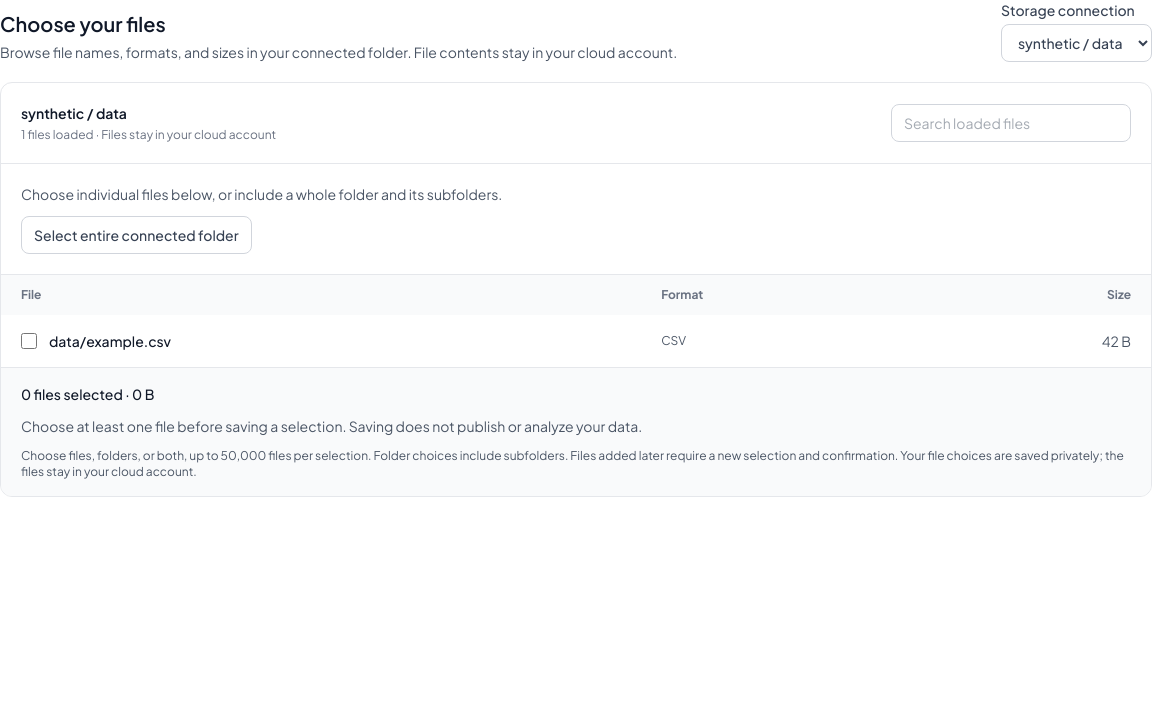
Test: does not write the draft after a source save when no persisted sample selection exists
Click the checkbox labelled "data/example.csv".
click(29, 341)  # box [21,333,37,349]
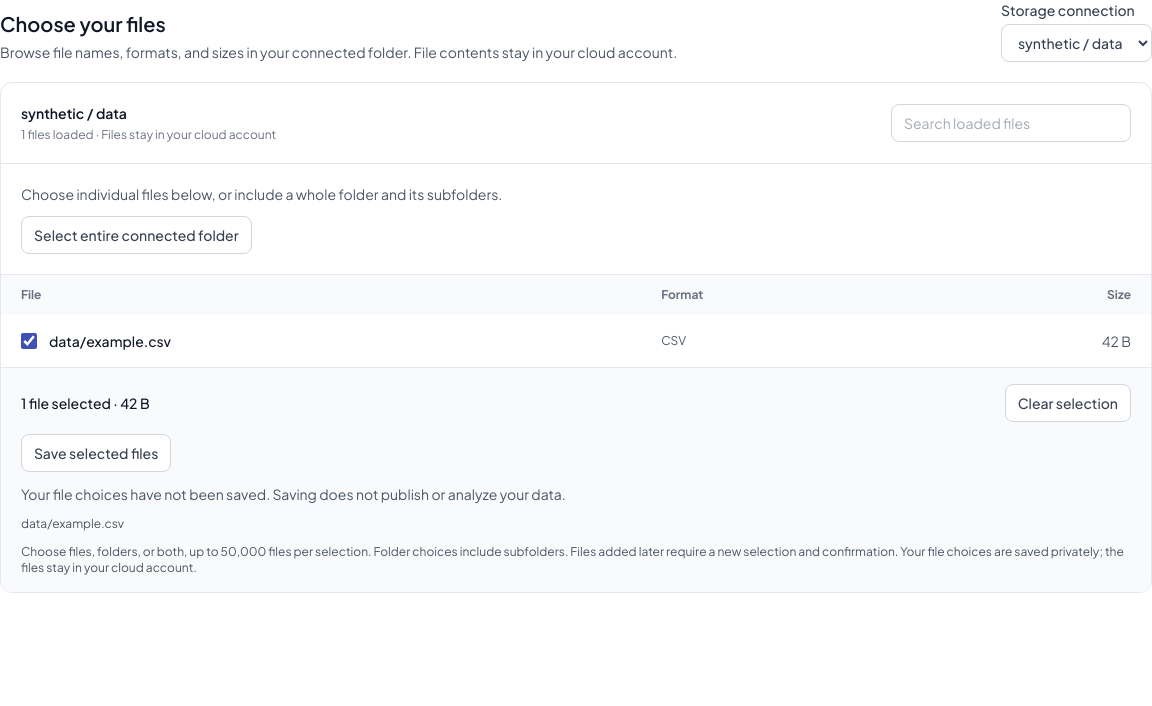
Click the button "Save selected files".
click(96, 453)  # box [21,434,171,472]
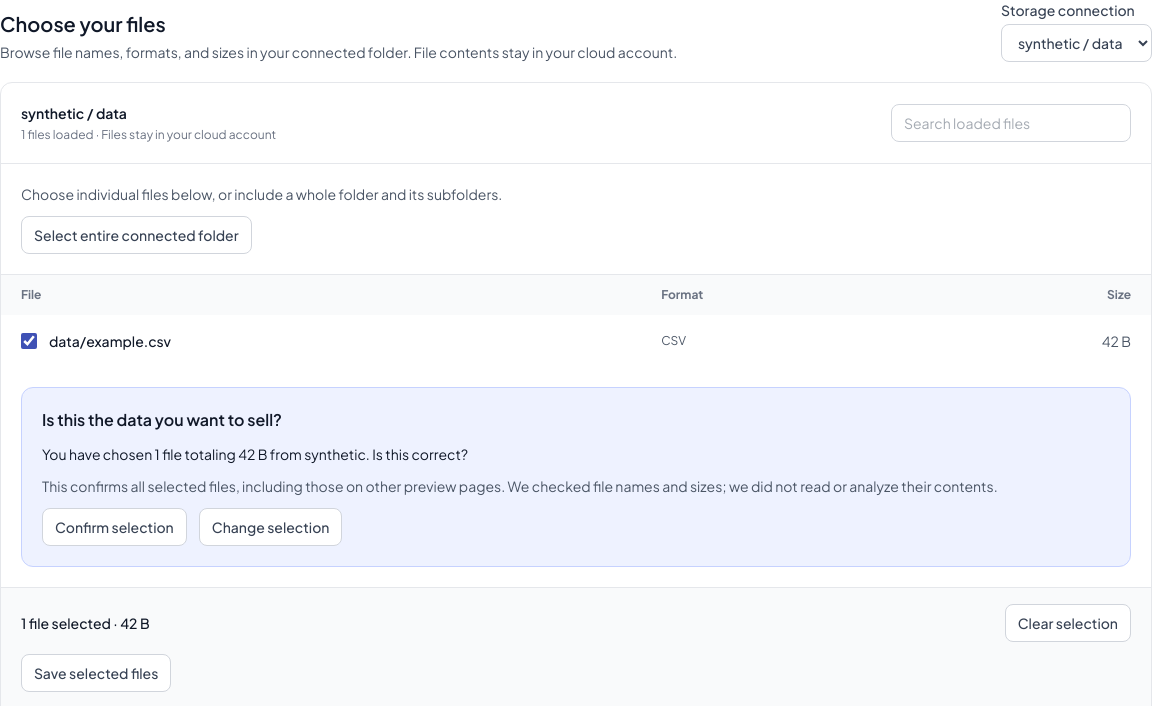
Click the button "Confirm selection".
click(114, 527)  # box [42,508,187,546]
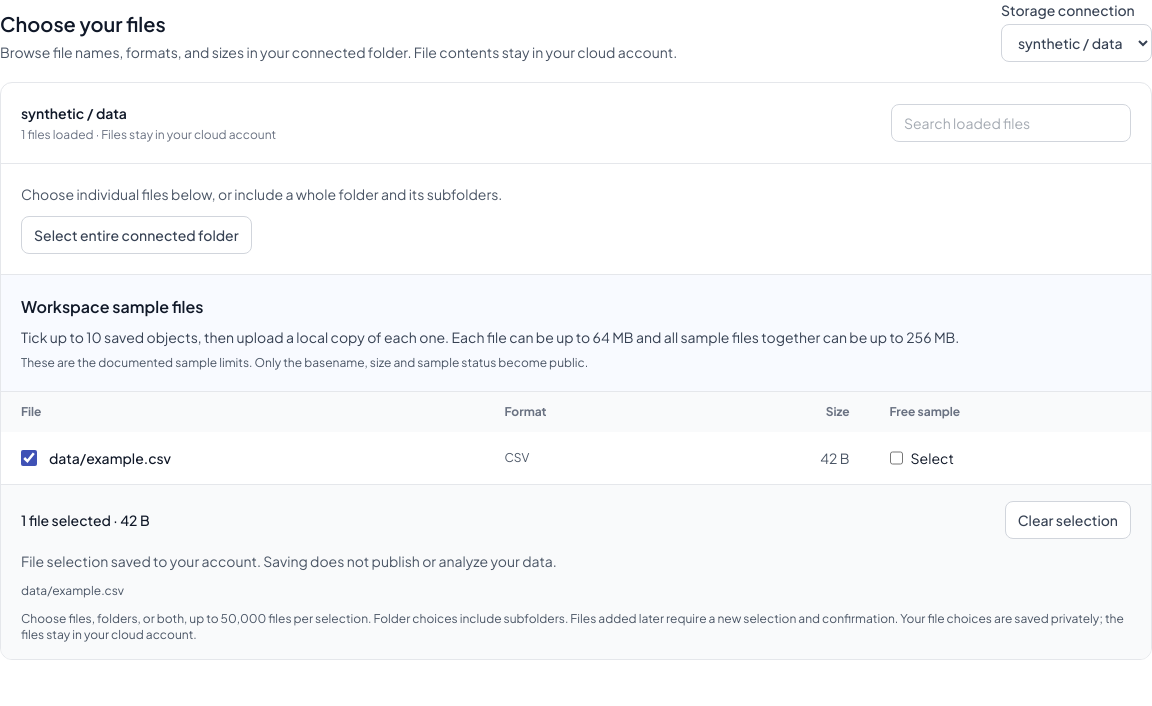
Expected: the text "File selection saved to your account" is shown, [21,552,261,570]
